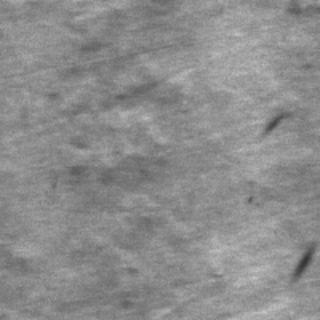rolled pit: (40, 74, 150, 180)
